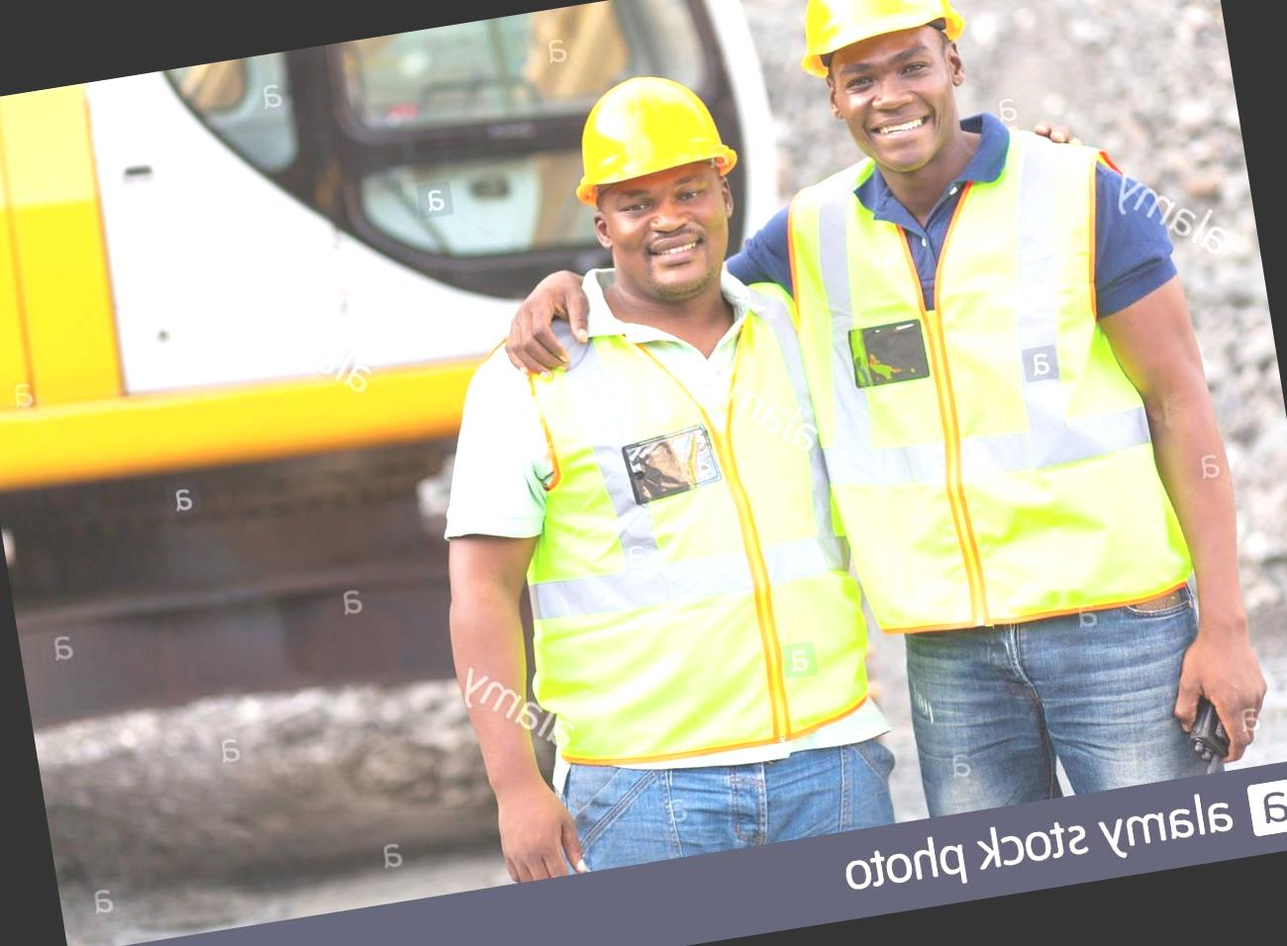helmet: (539, 54, 747, 216), (775, 0, 986, 90)
person: (404, 46, 898, 877), (779, 0, 1277, 821)
